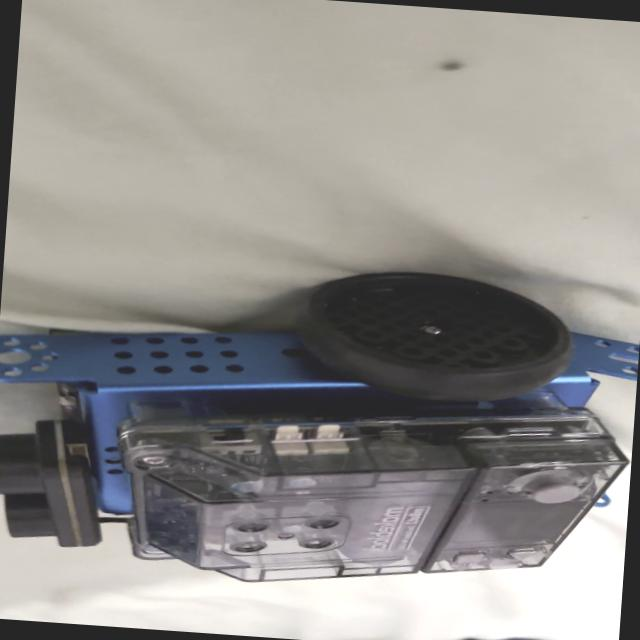mbot-detection: (0, 235, 640, 638)
